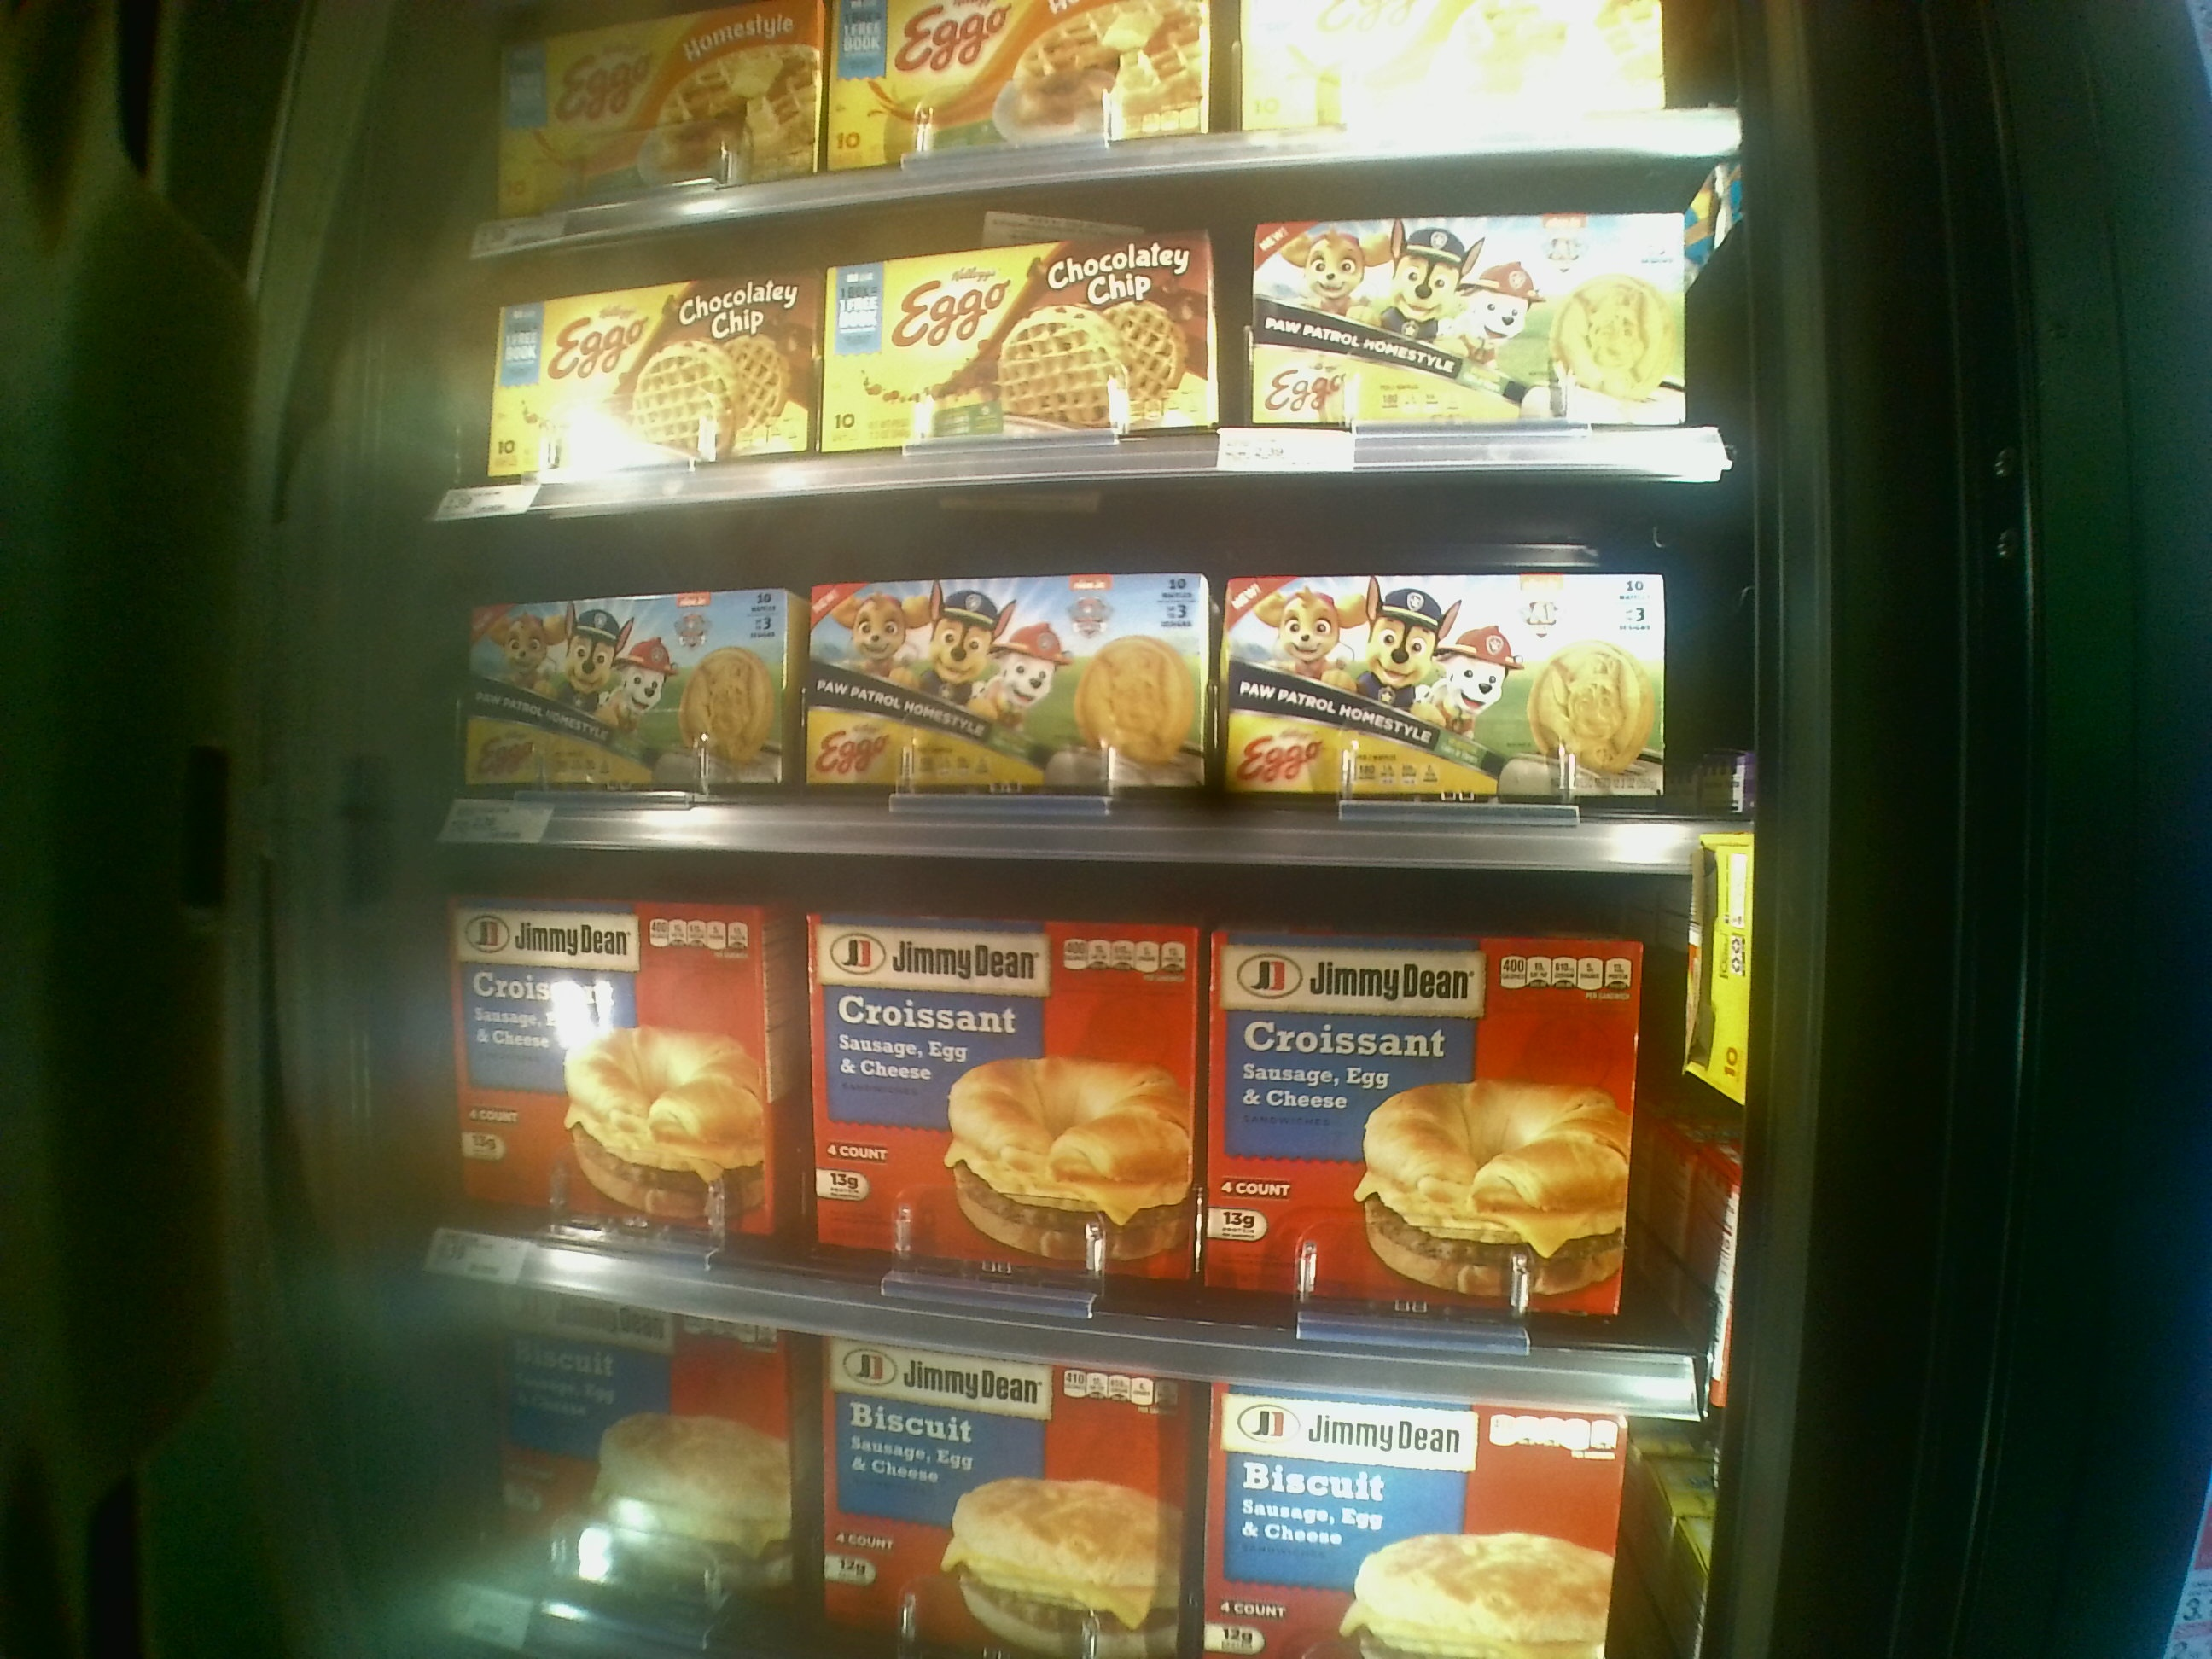shelf: (434, 838, 1733, 1434), (435, 476, 1710, 871), (439, 141, 1735, 526)
